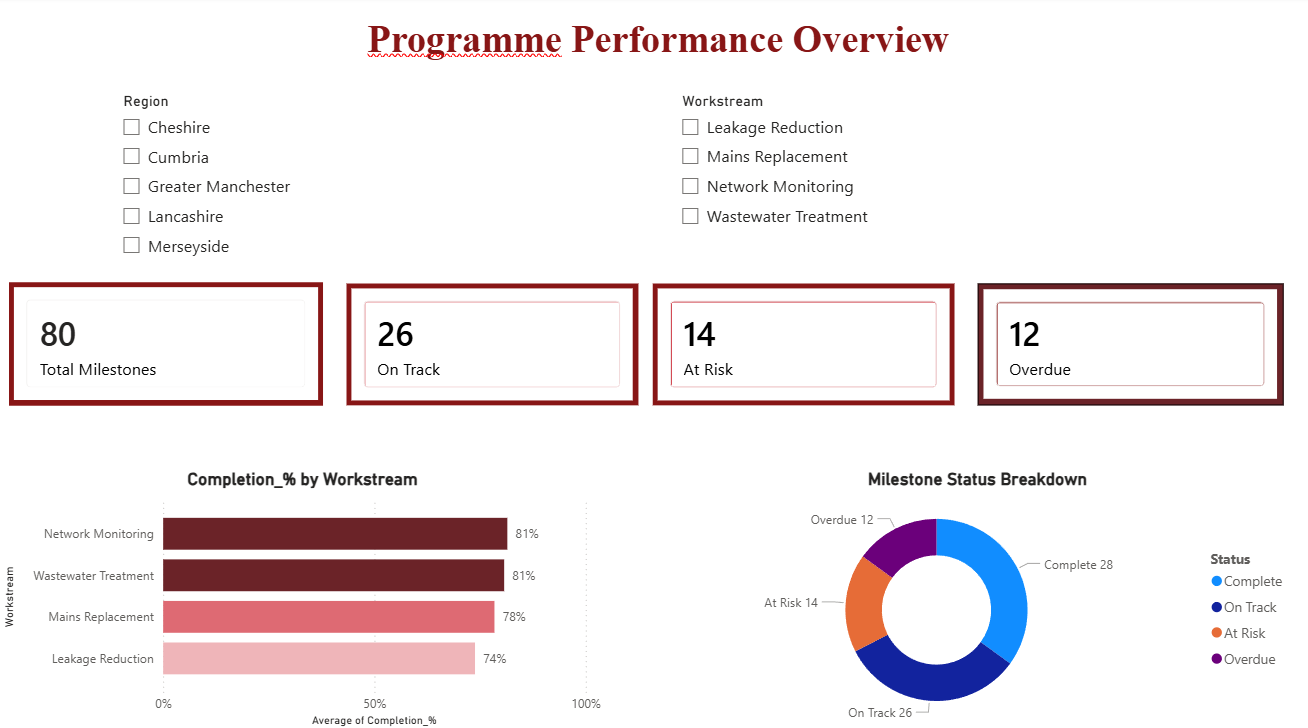

This screenshot's page, from the dashboard's own definition file:
{"tool":"powerbi","page":{"name":"Programme Overview","canvas":[1280,720],"ordinal":0},"visuals":[{"type":"textbox","box":[9.6,16.5,1270.7,72.7],"z":0},{"type":"cardVisual","fields":{"Data":["Programme_Milestones.Total Milestones"]},"box":[9.6,279.9,307.4,120.8],"z":1000},{"type":"cardVisual","fields":{"Data":["Programme_Milestones.On Track"]},"box":[340.3,281.3,285.4,119.4],"z":2000},{"type":"cardVisual","fields":{"Data":["Programme_Milestones.At Risk"]},"box":[639.5,281.3,295,119.4],"z":3000},{"type":"cardVisual","fields":{"Data":["Programme_Milestones.Overdue"]},"box":[957.8,281.3,299.1,119.4],"z":4000},{"type":"clusteredBarChart","title":"Completion_% by Workstream","fields":{"Category":["Programme_Milestones.Workstream"],"Y":["Avg(Programme_Milestones.Completion_%)"]},"box":[0,462.4,594.2,258],"z":5000},{"type":"donutChart","title":"Milestone Status Breakdown","fields":{"Category":["Programme_Milestones.Status"],"Y":["CountNonNull(Programme_Milestones.Milestone_ID)"]},"box":[644.9,462.4,625.7,258],"z":6000},{"type":"slicer","fields":{"Values":["Programme_Milestones.Workstream"]},"box":[655.9,89.2,450.1,172.9],"z":7000},{"type":"slicer","fields":{"Values":["Programme_Milestones.Region"]},"box":[108.4,89.2,502.2,172.9],"z":8000}]}

Visuals, with their boxes in screenshot pixels (x1, y1, x2, y2), scaled from the page's 1280x720 canvas onto the 1308x728 screenshot:
textbox: (10,17,1307,90)
cardVisual - Programme_Milestones.Total Milestones: (10,283,324,405)
cardVisual - Programme_Milestones.On Track: (348,284,639,405)
cardVisual - Programme_Milestones.At Risk: (653,284,955,405)
cardVisual - Programme_Milestones.Overdue: (979,284,1284,405)
"Completion_% by Workstream" clusteredBarChart: (0,468,607,727)
"Milestone Status Breakdown" donutChart: (659,468,1298,727)
slicer - Programme_Milestones.Workstream: (670,90,1130,265)
slicer - Programme_Milestones.Region: (111,90,624,265)
